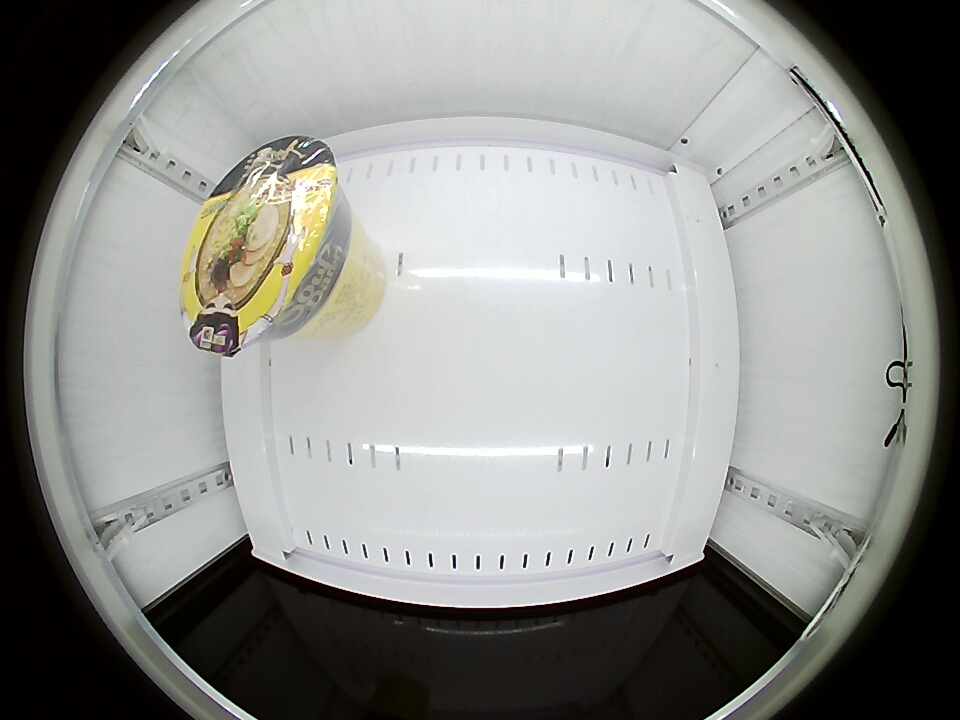tangdaren2: (181, 135, 349, 356)
